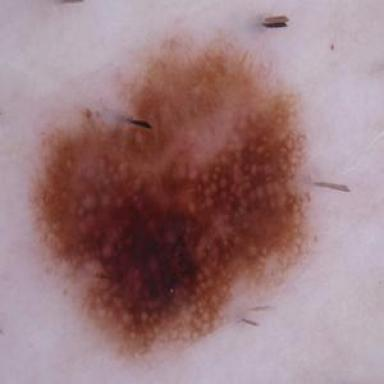Melanoma: (35, 41, 302, 352)
